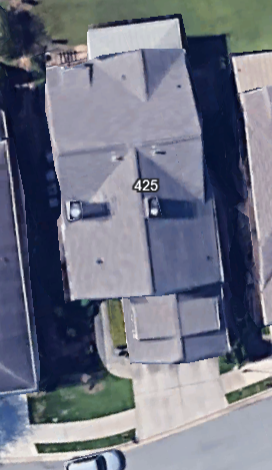driveway: (123, 347, 229, 439)
